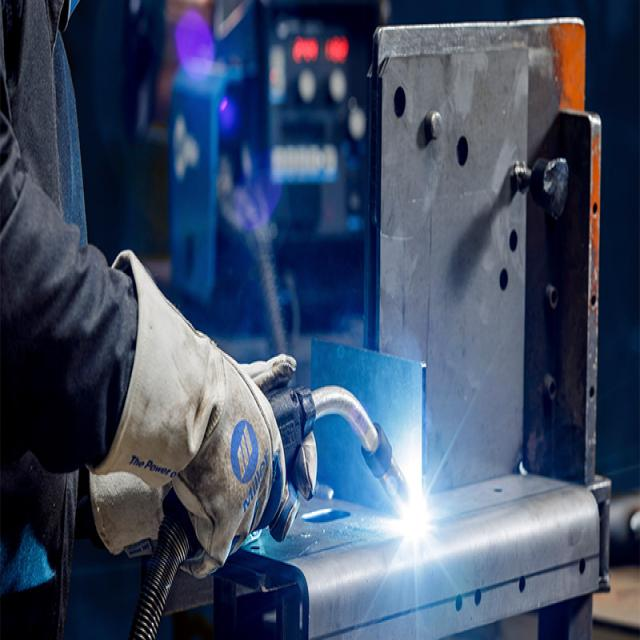welding: (402, 491, 427, 546)
